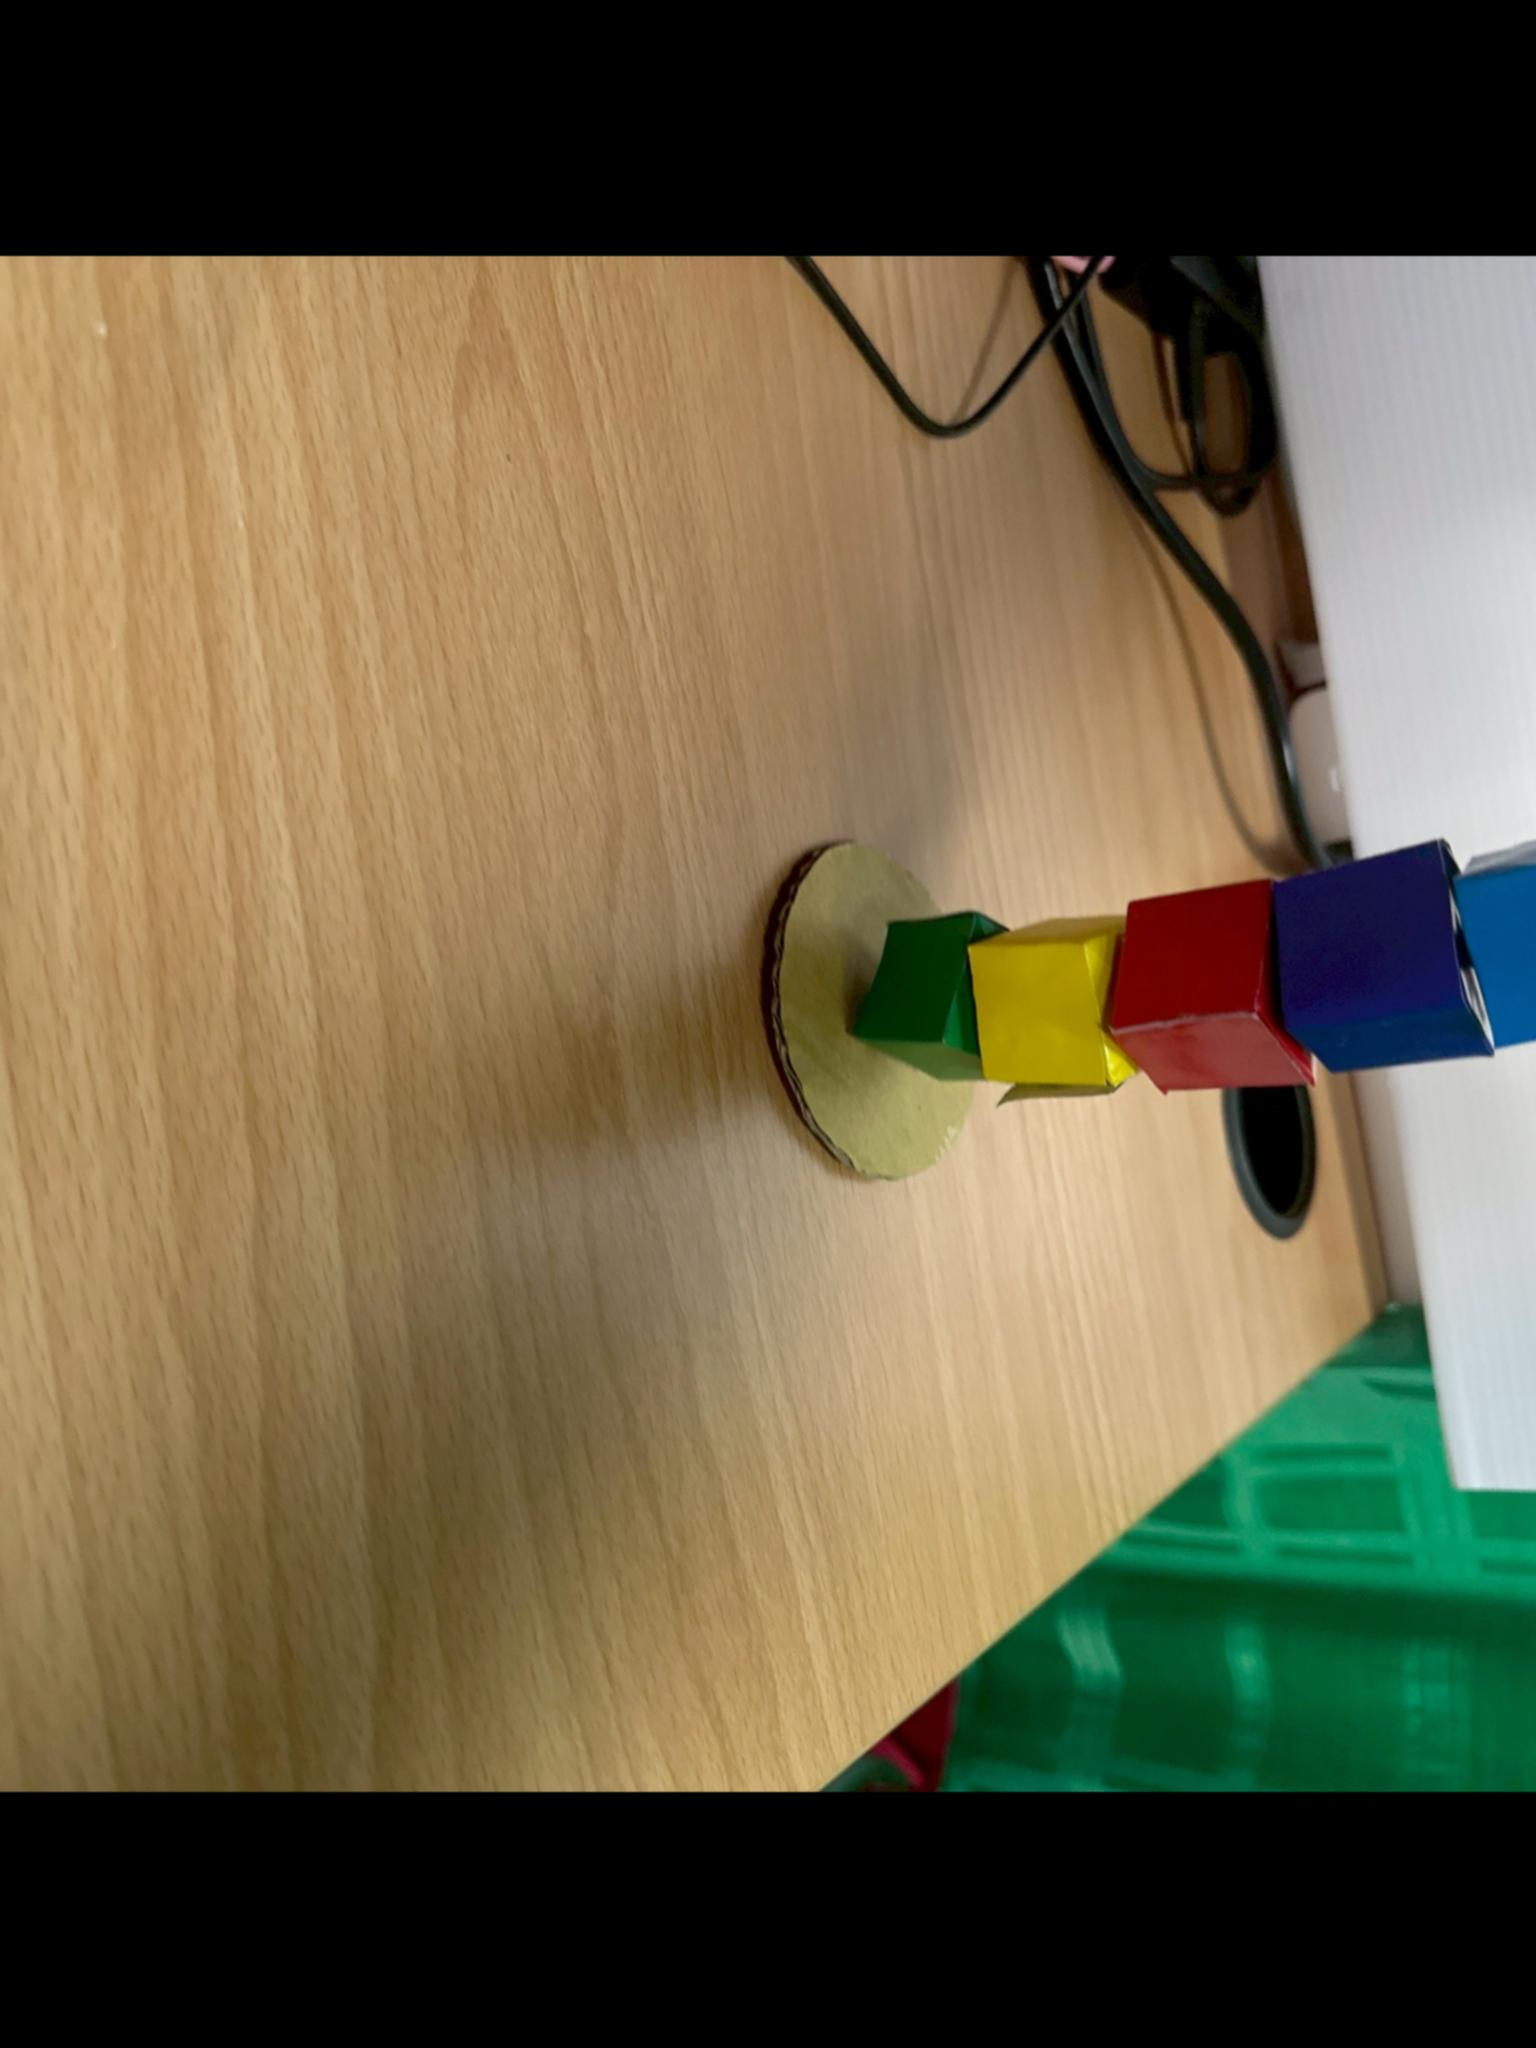base: (776, 842, 978, 1179)
